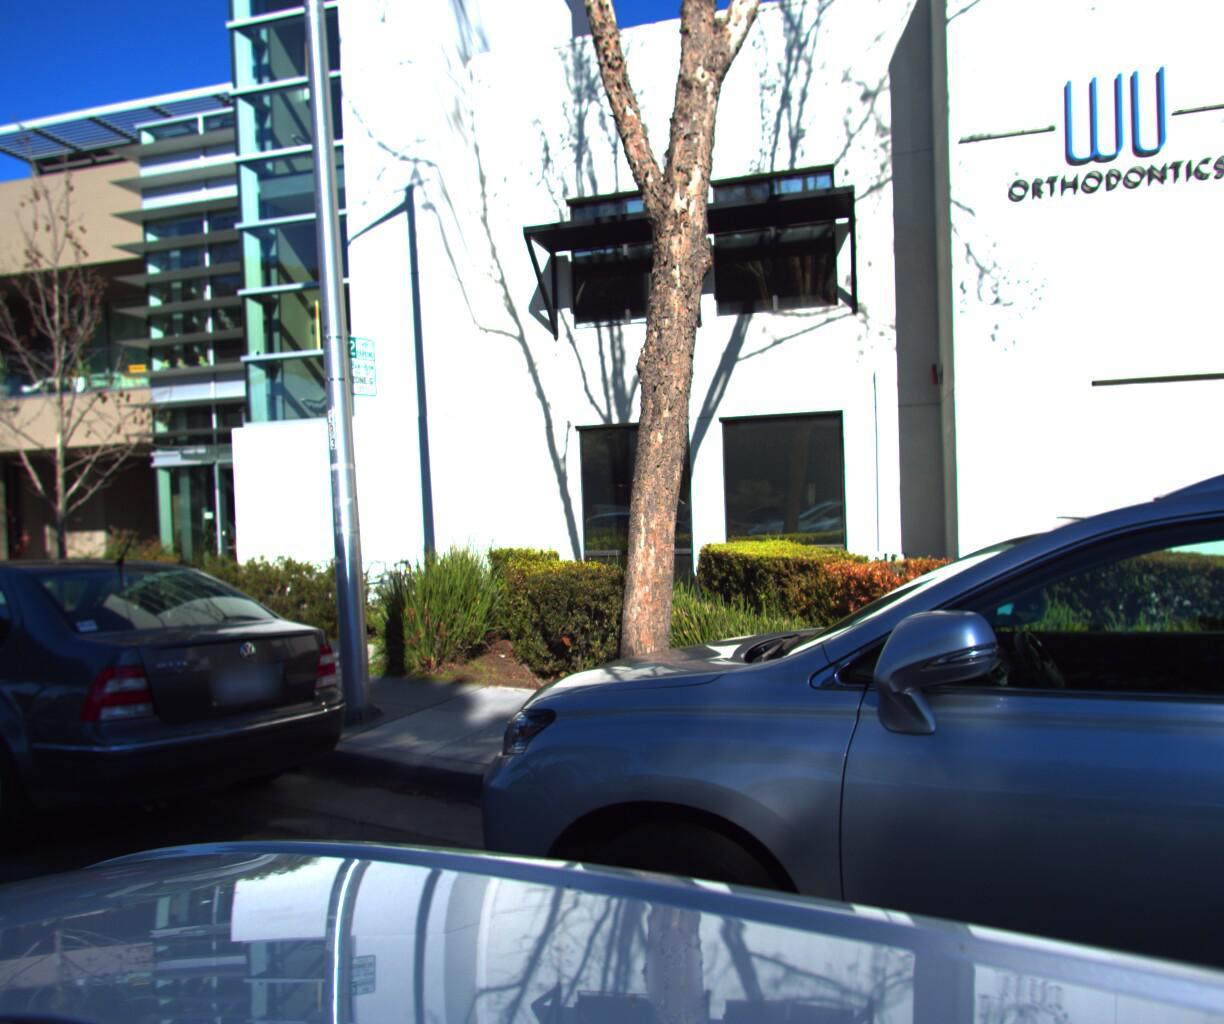car: (344, 0, 1224, 1024), (0, 527, 396, 933)
